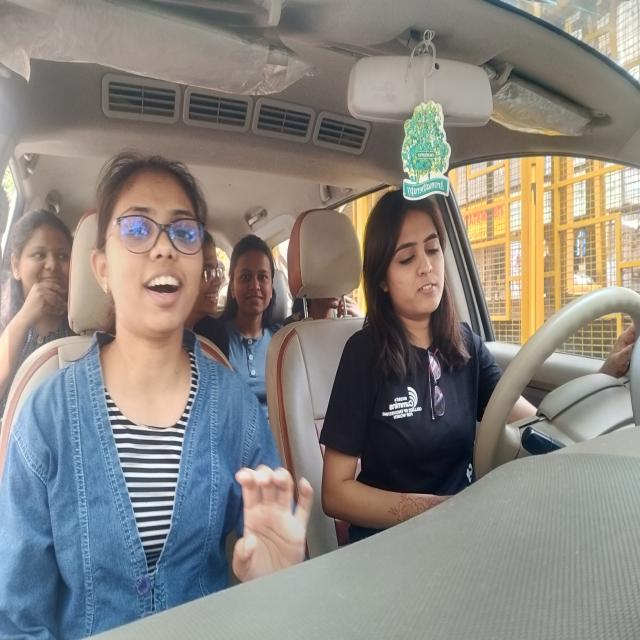drowsy: (363, 194, 455, 320)
person: (100, 157, 209, 333), (14, 214, 73, 317), (236, 231, 278, 318), (202, 229, 226, 314), (296, 305, 353, 321)
